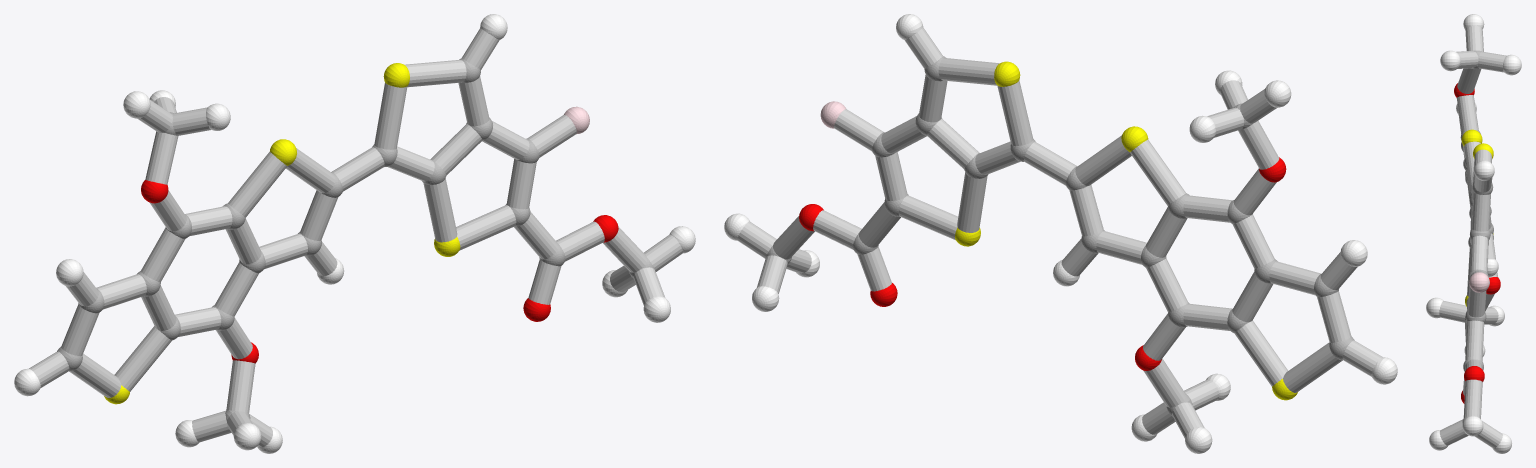
Rendered from color.glb.
The picture shows the model from 3 angles, left to right: view 1: azimuth 30°, elevation 25°; view 2: azimuth 150°, elevation 25°; view 3: azimuth 270°, elevation 25°; orthographic projection. The views are drawn at different scales.
Parts seen in each view (by area): view 1: grp15205, grp8689, grp1, grp7241, grp13395; view 2: grp15205, grp8689, grp1, grp7241, grp13395; view 3: grp15205, grp8689, grp1, grp13395, grp7241, grp14843.
Boxes of the visible parts, bbox=[...] form: grp15205: bbox=[29, 28, 682, 447]; grp8689: bbox=[14, 14, 695, 453]; grp1: bbox=[57, 58, 653, 421]; grp7241: bbox=[104, 63, 460, 404]; grp13395: bbox=[141, 180, 618, 363]; grp15205: bbox=[737, 27, 1382, 438]; grp8689: bbox=[724, 14, 1397, 453]; grp1: bbox=[766, 56, 1354, 416]; grp7241: bbox=[955, 61, 1297, 400]; grp13395: bbox=[799, 157, 1286, 370]; grp15205: bbox=[1439, 26, 1506, 448]; grp8689: bbox=[1426, 14, 1521, 453]; grp1: bbox=[1460, 50, 1493, 423]; grp13395: bbox=[1454, 83, 1500, 403]; grp7241: bbox=[1461, 129, 1493, 306]; grp14843: bbox=[1469, 272, 1489, 292].
Bounding box in the file's own units: 16.97 × 9.43 × 2.76.
